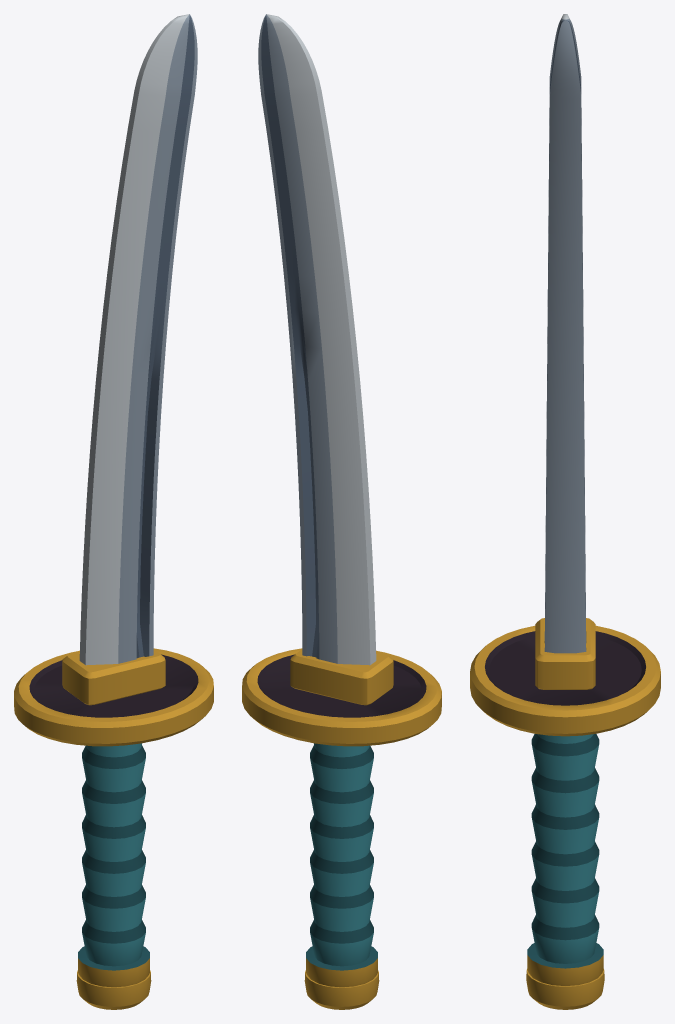
File: Katana_12.glb
The picture shows the model from 3 angles, left to right: view 1: azimuth 30°, elevation 25°; view 2: azimuth 150°, elevation 25°; view 3: azimuth 270°, elevation 25°; orthographic projection. The views are drawn at different scales.
Parts seen in each view (by area): view 1: Katana_12; view 2: Katana_12; view 3: Katana_12.
Part boxes in pixels (x1=…): Katana_12: x1=14, y1=14, x2=213, y2=1009; Katana_12: x1=242, y1=14, x2=441, y2=1009; Katana_12: x1=470, y1=14, x2=660, y2=1009.
Size of the model in its own units: 1.3 by 6.71 by 1.14.
